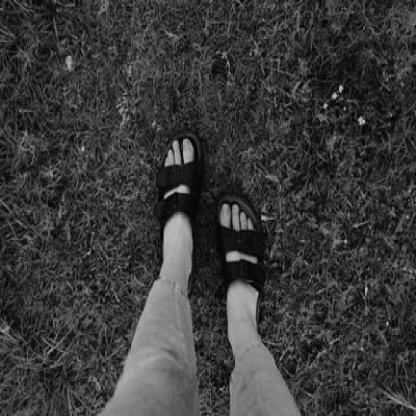ankle: (190, 263, 193, 267), (231, 332, 235, 335)
heel: (190, 288, 192, 292), (258, 321, 260, 324)
left_foot: (154, 132, 200, 298)
pinky: (164, 163, 168, 168), (256, 228, 259, 233)
right_foot: (218, 189, 264, 345)
toe: (223, 204, 226, 210), (185, 141, 188, 144)
